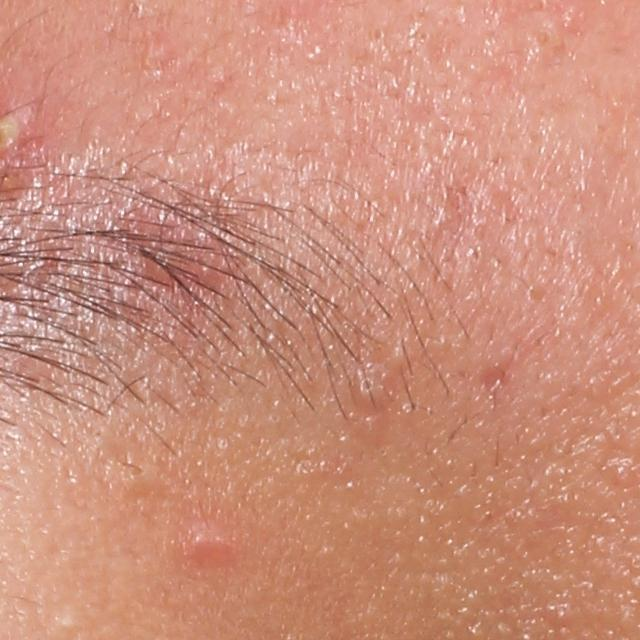comedo: (347, 367, 388, 414), (363, 23, 389, 48)
